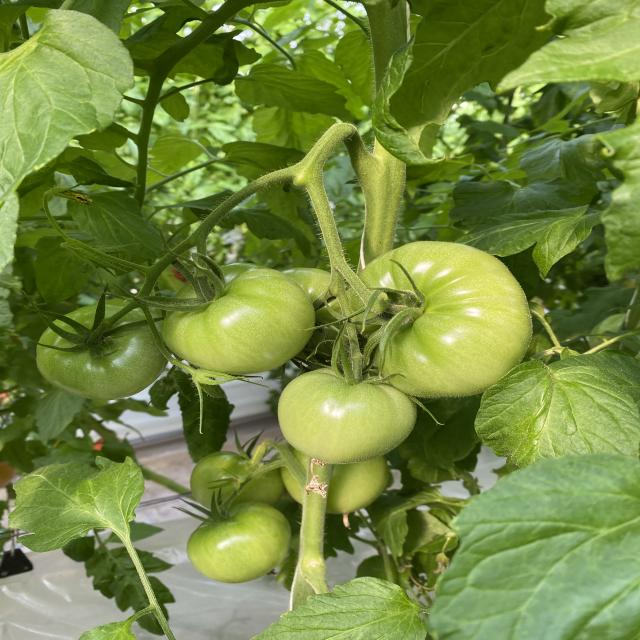yesil: (23, 232, 523, 595)
